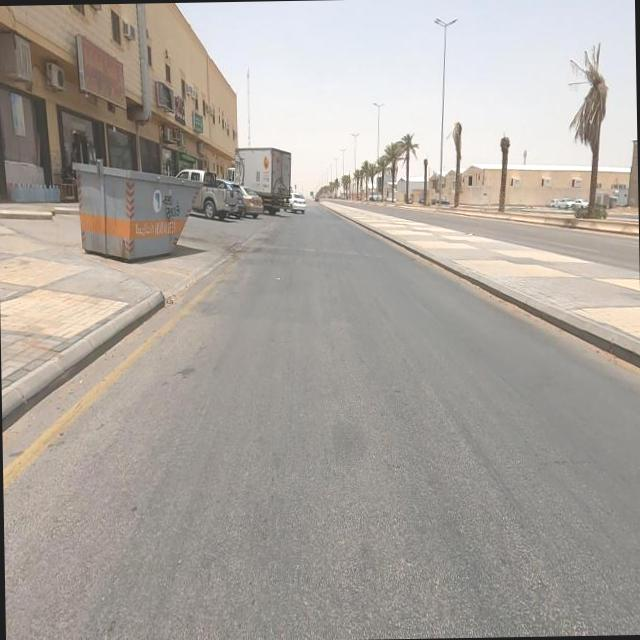debris: (36, 18, 178, 141), (135, 56, 191, 140)
